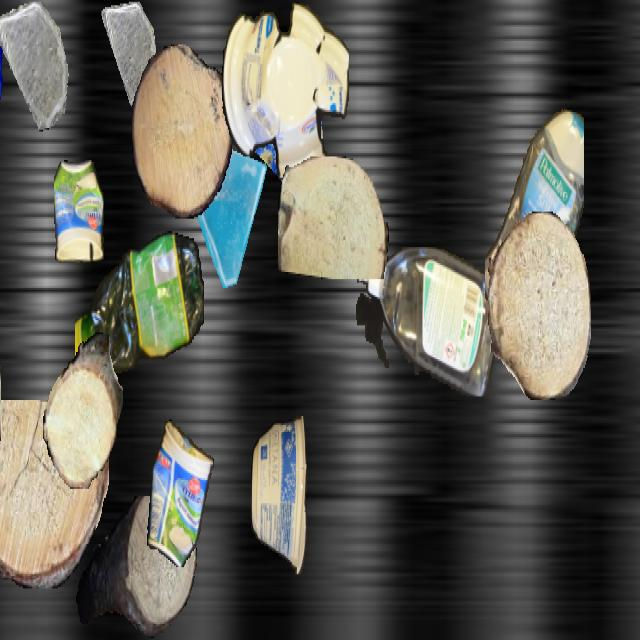glass: (232, 54, 326, 220), (186, 134, 276, 294), (0, 2, 69, 130), (101, 2, 159, 105), (0, 1, 13, 116)
plastic: (485, 102, 583, 340), (222, 2, 348, 180), (356, 247, 502, 397), (75, 224, 203, 388), (145, 420, 215, 566), (251, 416, 307, 572), (54, 160, 104, 263)
wood: (0, 400, 109, 588), (488, 212, 590, 400), (75, 496, 197, 638), (132, 45, 232, 218), (278, 156, 388, 278), (43, 332, 123, 489), (0, 320, 1, 494)
